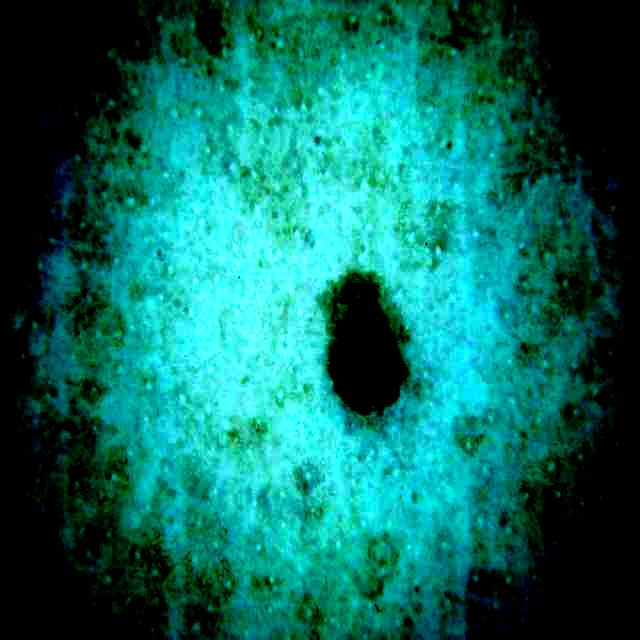BCC: (324, 272, 406, 412)
